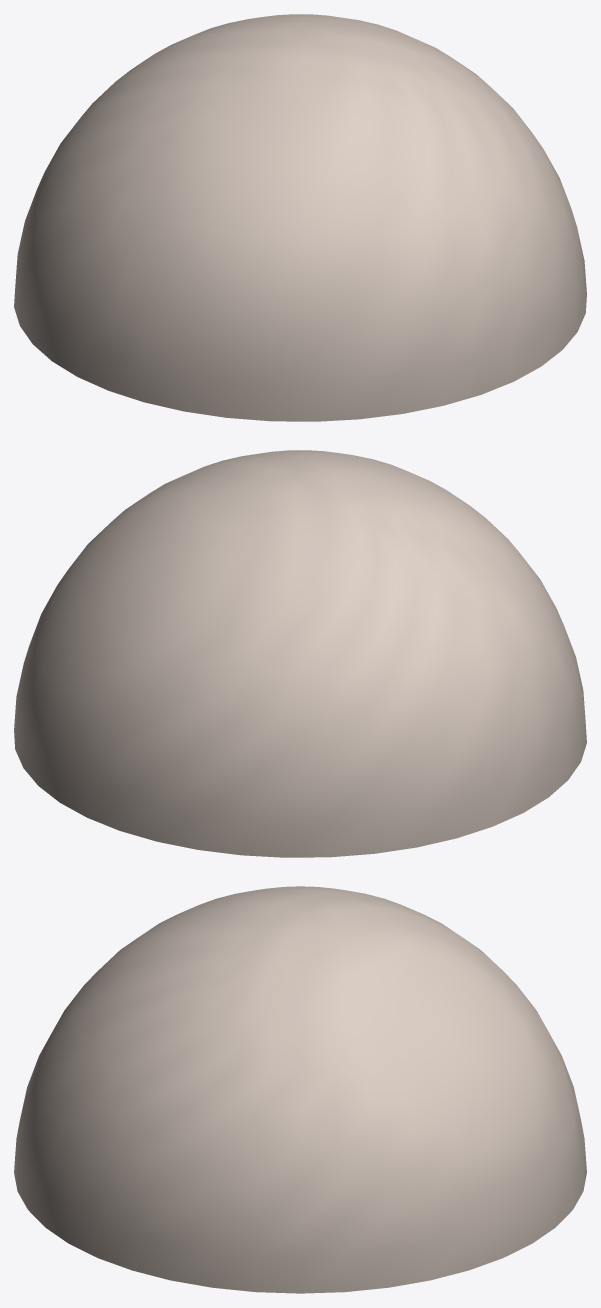
Rendered from sugar-dome.glb.
The picture shows the model from 3 angles, top to bottom: view 1: azimuth 30°, elevation 25°; view 2: azimuth 150°, elevation 25°; view 3: azimuth 270°, elevation 25°; orthographic projection.
Visible parts, largest first — view 1: Sugar dome; view 2: Sugar dome; view 3: Sugar dome.
Boxes of the visible parts, left/top/right/bottom form: Sugar dome: left=14, top=14, right=586, bottom=421; Sugar dome: left=14, top=450, right=586, bottom=857; Sugar dome: left=14, top=886, right=586, bottom=1293.
Size of the model in its own units: 2 by 1 by 2.
